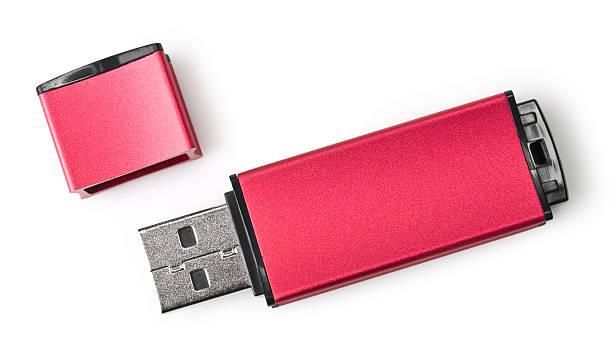USB Flash Drive: (138, 91, 570, 313)
